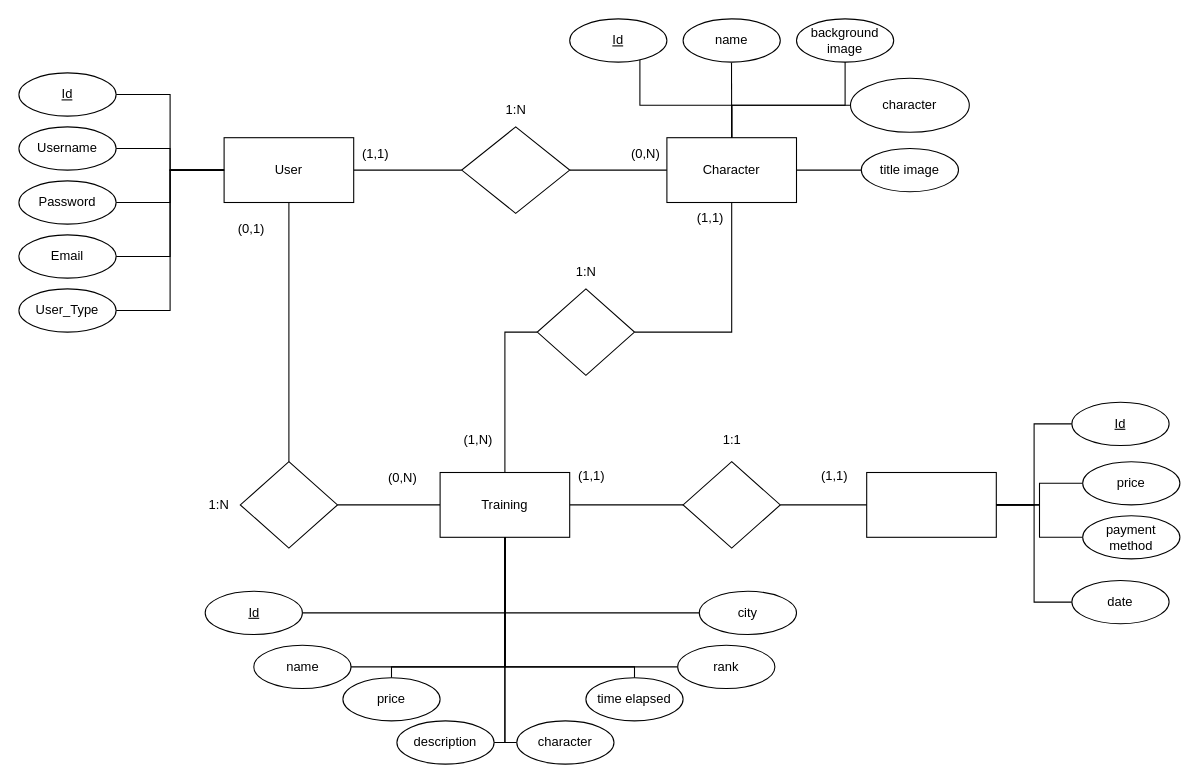
Image size: 1199x783. Some labels were removed from this diagram. The shapes that lost their labels are listed below. From the top down, each one's box as (x1, y1, x2, y2) in pixels, then its label:
(461, 126, 570, 213): Create
(536, 288, 634, 375): Own
(239, 461, 338, 548): Register
(682, 461, 780, 548): Have
(866, 471, 996, 537): Transaction
